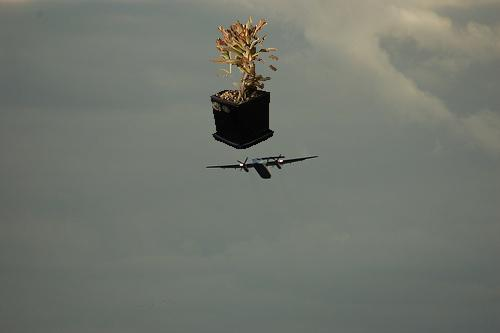tampered: (211, 17, 278, 149)
